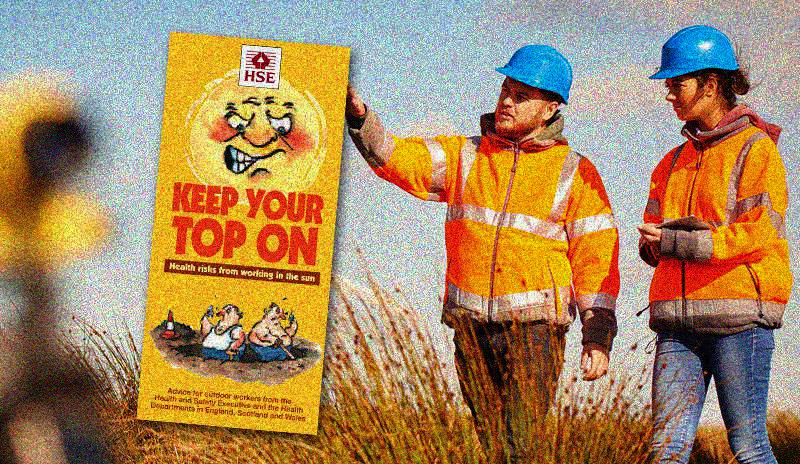helmet: (648, 24, 742, 121), (496, 44, 576, 139)
